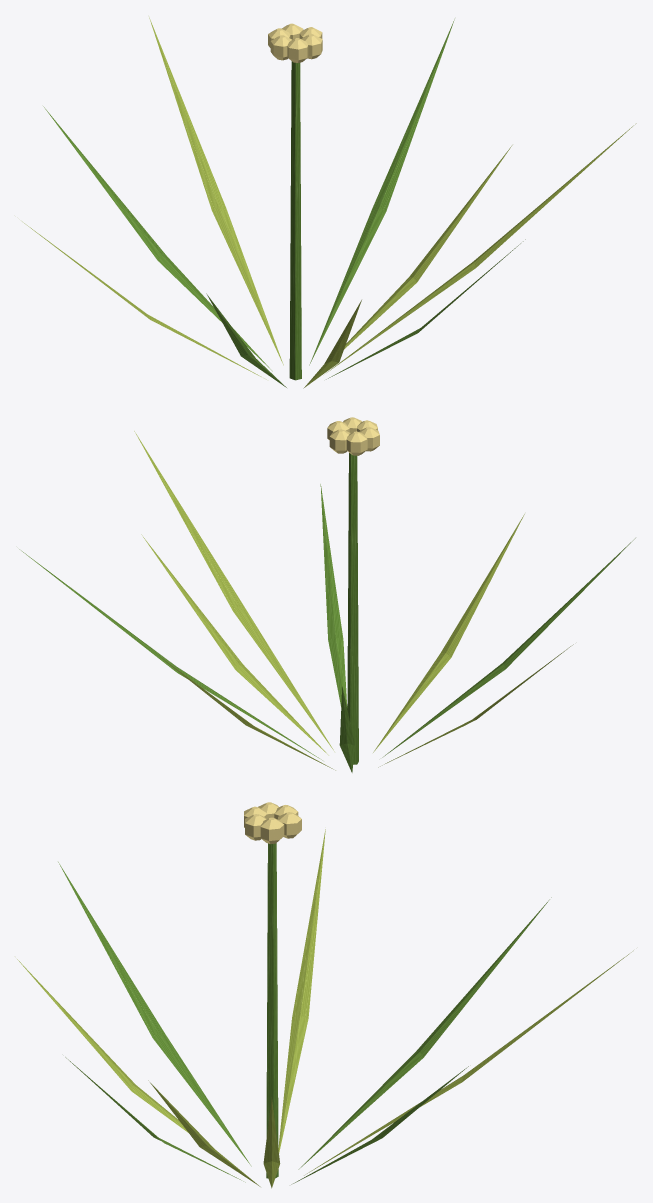
Rendered from crop-scallion-flowering.glb.
3 views of the same model, one above another, from view 1: azimuth 30°, elevation 25°; view 2: azimuth 150°, elevation 25°; view 3: azimuth 270°, elevation 25° (orthographic). The views are drawn at different scales.
Parts seen in each view (by area): view 1: crop-scallion-flowering; view 2: crop-scallion-flowering; view 3: crop-scallion-flowering.
Boxes of the visible parts, x1,y1,x2,y2 form: crop-scallion-flowering: [22, 17, 636, 388]; crop-scallion-flowering: [19, 417, 635, 772]; crop-scallion-flowering: [17, 802, 633, 1188].
Bounding box in the file's own units: 1.26 × 0.7715 × 1.2.
1 material, 1 textured.
